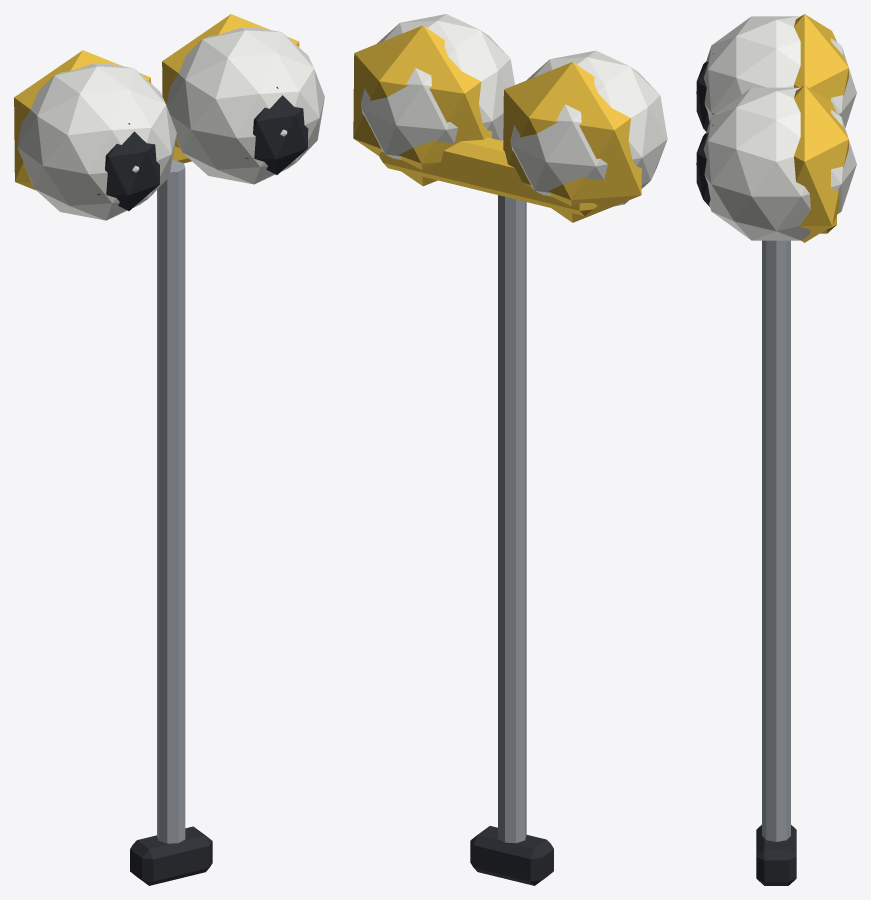
File: quickreply_m2_2.glb
3 renders of one model, left to right at view 1: azimuth 30°, elevation 25°; view 2: azimuth 150°, elevation 25°; view 3: azimuth 270°, elevation 25°, orthographic. The views are drawn at different scales.
Parts seen in each view (by area): view 1: quickreply_m2_2_mesh; view 2: quickreply_m2_2_mesh; view 3: quickreply_m2_2_mesh.
Boxes of the visible parts, x1,y1,x2,y2 form: quickreply_m2_2_mesh: [14, 14, 324, 885]; quickreply_m2_2_mesh: [353, 14, 667, 885]; quickreply_m2_2_mesh: [696, 14, 856, 885].
Bounding box in the file's own units: 0.4032 × 1.13 × 0.2.
